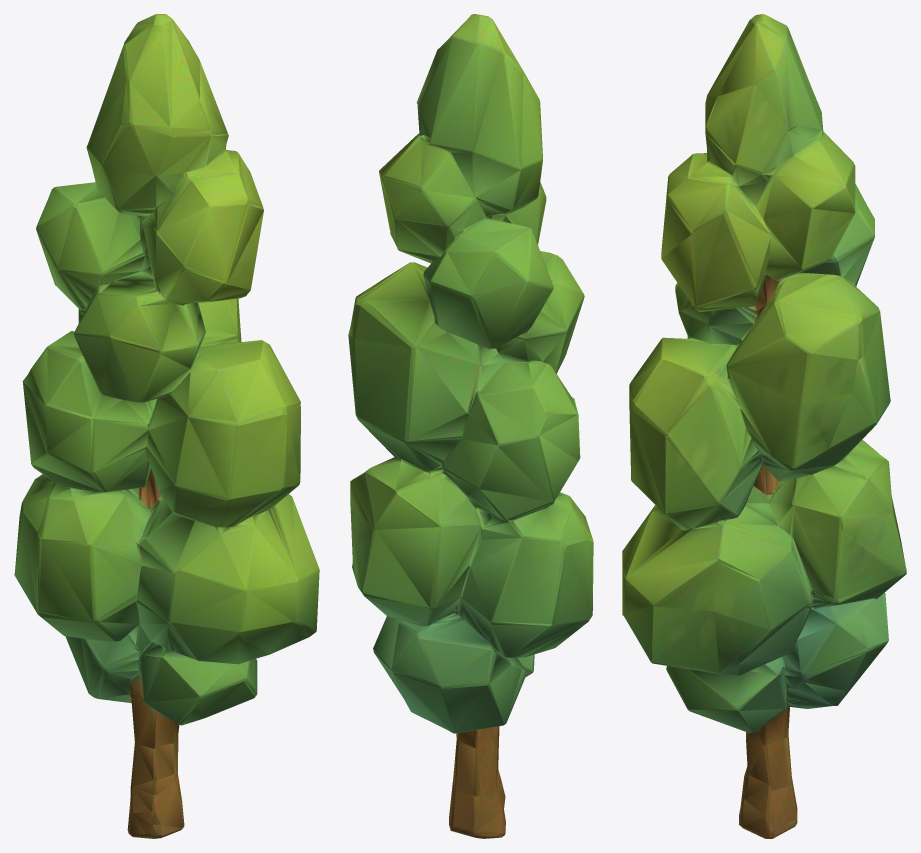
Rendered from cypress.glb.
The picture shows the model from 3 angles, left to right: view 1: azimuth 30°, elevation 25°; view 2: azimuth 150°, elevation 25°; view 3: azimuth 270°, elevation 25°; orthographic projection.
Visible parts, largest first — view 1: tripo_node_391802aa-b0e6-4673-b962-b43ed2fb6746; view 2: tripo_node_391802aa-b0e6-4673-b962-b43ed2fb6746; view 3: tripo_node_391802aa-b0e6-4673-b962-b43ed2fb6746.
Part boxes in pixels (box(x1,y1,x2,y2)): tripo_node_391802aa-b0e6-4673-b962-b43ed2fb6746: box(14, 14, 319, 838); tripo_node_391802aa-b0e6-4673-b962-b43ed2fb6746: box(348, 14, 593, 838); tripo_node_391802aa-b0e6-4673-b962-b43ed2fb6746: box(622, 14, 906, 838).
Size of the model in its own units: 9.16 by 31 by 9.77.
Materials: 1 (1 with a texture image).
